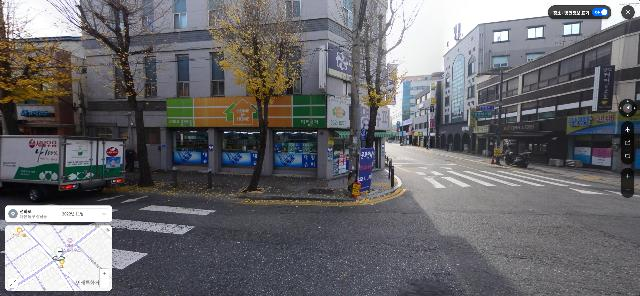ginkgo: (50, 0, 171, 188), (202, 0, 312, 193), (333, 0, 421, 149), (1, 0, 92, 105)
